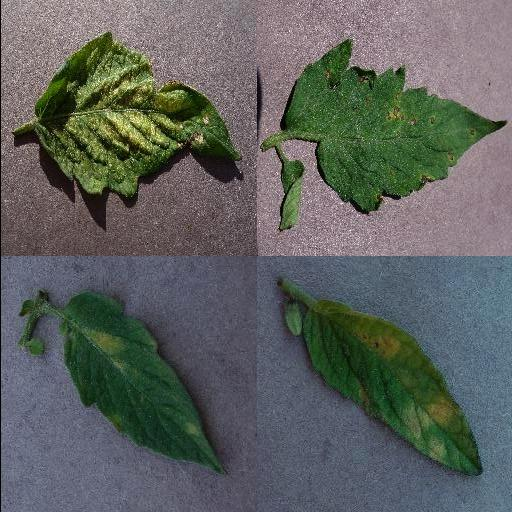Leaf Mold: (302, 300, 484, 476), (58, 290, 228, 472)
Septoria: (285, 37, 511, 211)
Spider Mites: (35, 35, 239, 199)
